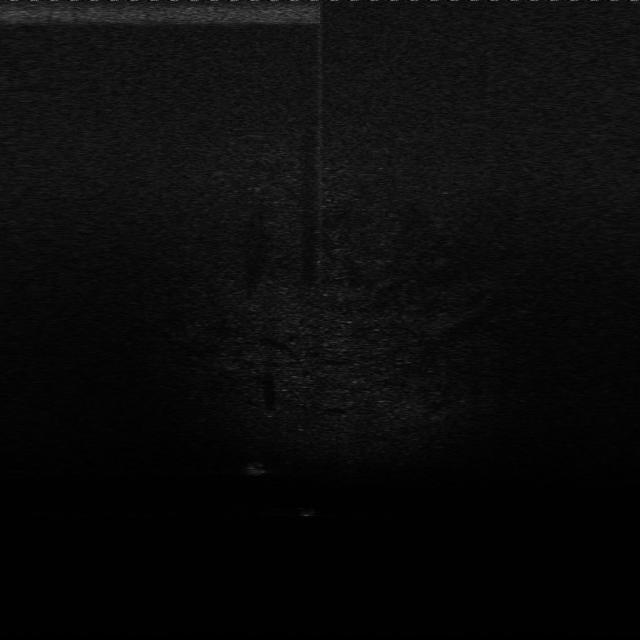ball: (260, 406, 282, 420)
circle cage: (240, 456, 270, 480)
tyre: (290, 498, 320, 522)
